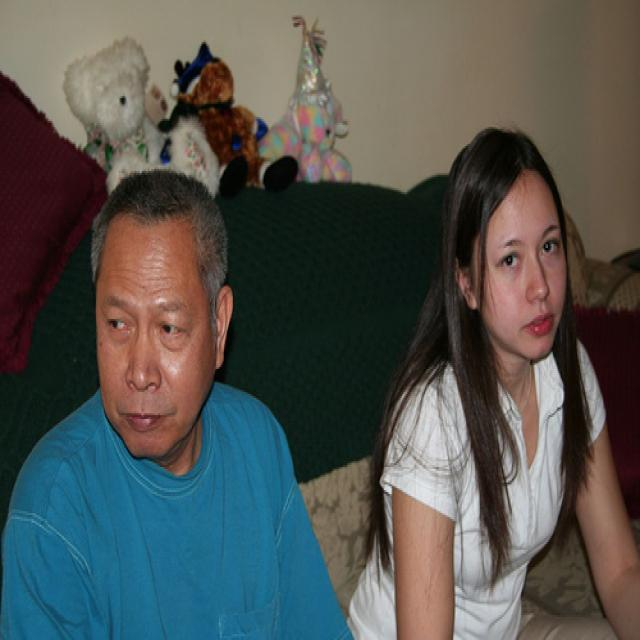person: (1, 166, 358, 639), (347, 128, 640, 639)
